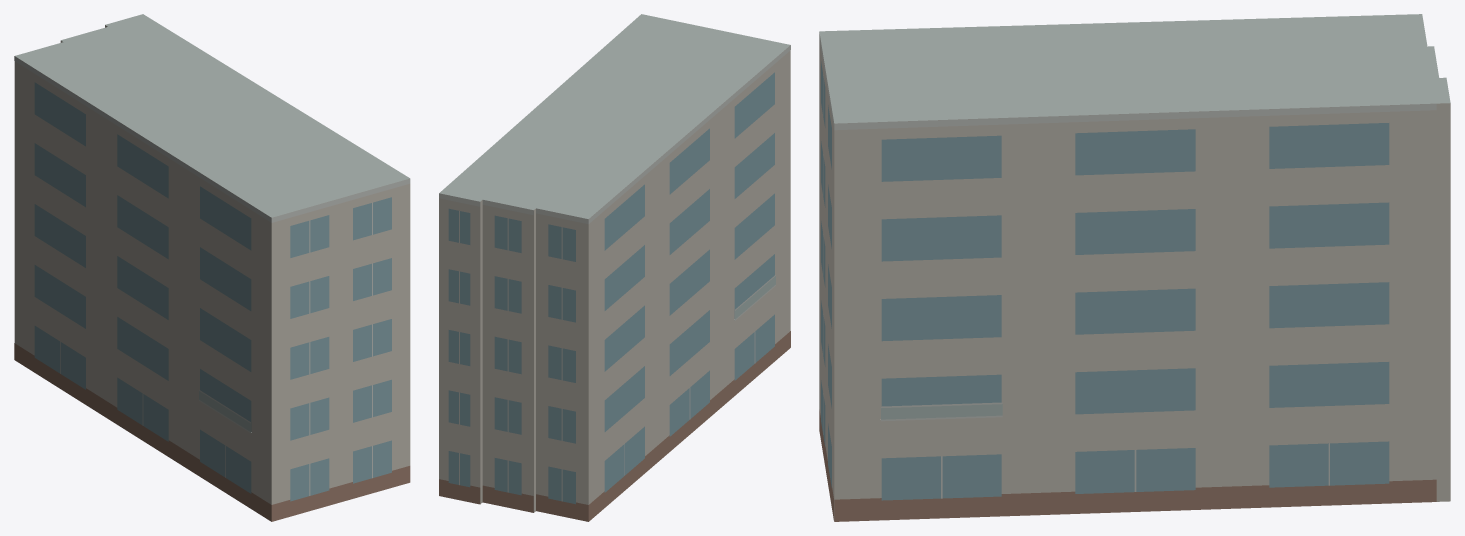
Rendered from survey-upis-33001923.glb.
3 views of the same model, side by side, from view 1: azimuth 30°, elevation 25°; view 2: azimuth 150°, elevation 25°; view 3: azimuth 270°, elevation 25° (orthographic). The views are drawn at different scales.
Parts seen in each view (by area): view 1: survey-upis-33001923.tmp; view 2: survey-upis-33001923.tmp; view 3: survey-upis-33001923.tmp.
Boxes of the visible parts, left/top/right/bottom form: survey-upis-33001923.tmp: left=14, top=14, right=410, bottom=521; survey-upis-33001923.tmp: left=439, top=14, right=790, bottom=521; survey-upis-33001923.tmp: left=819, top=14, right=1450, bottom=521.
Bounding box in the file's own units: 8.56 × 14.5 × 20.84.
